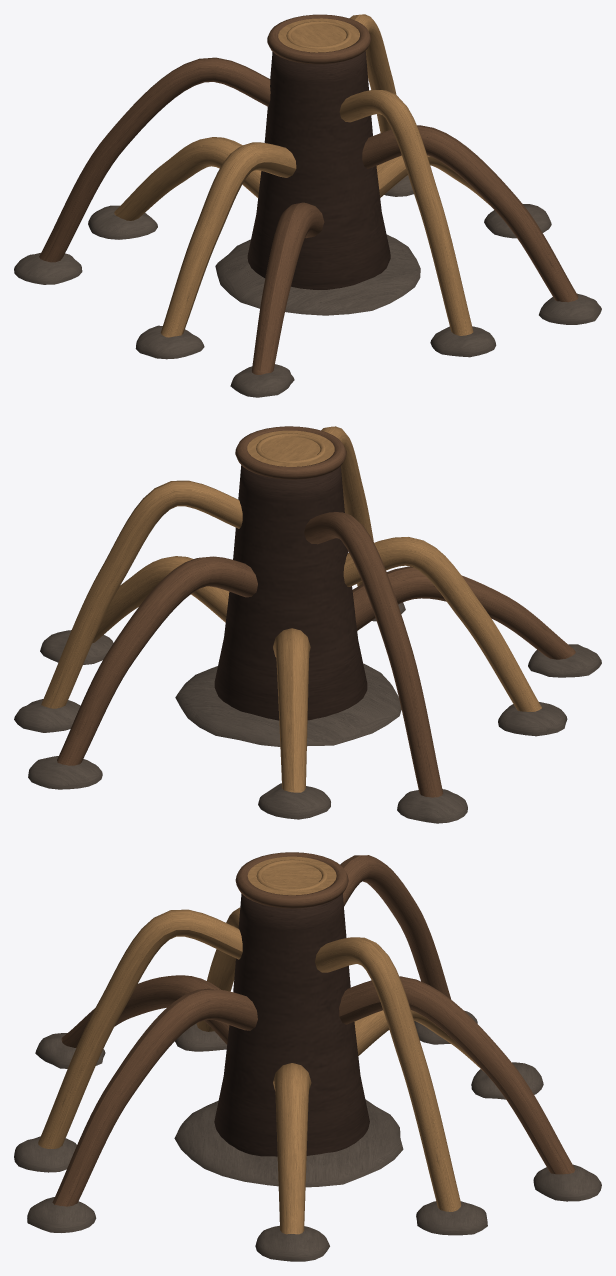
File: mangrove_roots.glb
The picture shows the model from 3 angles, top to bottom: view 1: azimuth 30°, elevation 25°; view 2: azimuth 150°, elevation 25°; view 3: azimuth 270°, elevation 25°; orthographic projection. The views are drawn at different scales.
Parts seen in each view (by area): view 1: mangrove_roots; view 2: mangrove_roots; view 3: mangrove_roots.
Part boxes in pixels (x1,y1,x2,y2): mangrove_roots: (14,14,601,397); mangrove_roots: (14,426,601,823); mangrove_roots: (14,852,601,1261).
Size of the model in its own units: 2.8 by 1.4 by 2.8.
Materials: 1 (1 with a texture image).
